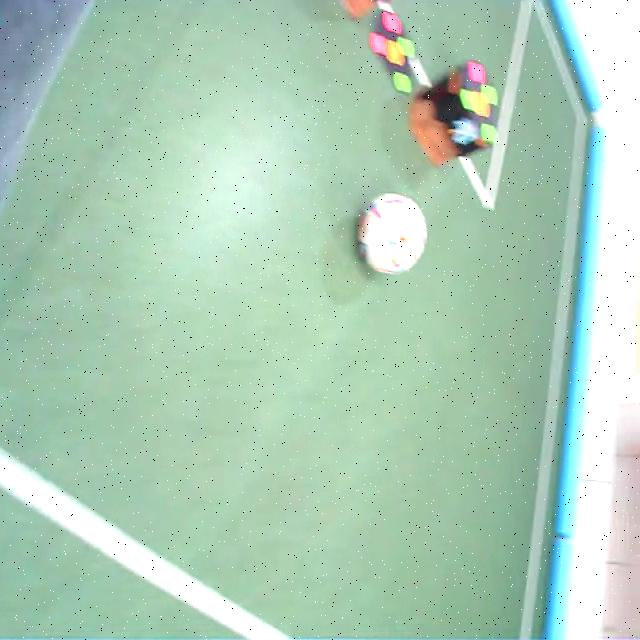ball: (358, 194, 428, 274)
